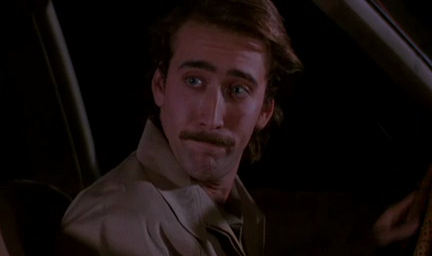cu: (1, 1, 432, 256)
face: (165, 36, 266, 180)
person: (60, 1, 305, 256)
